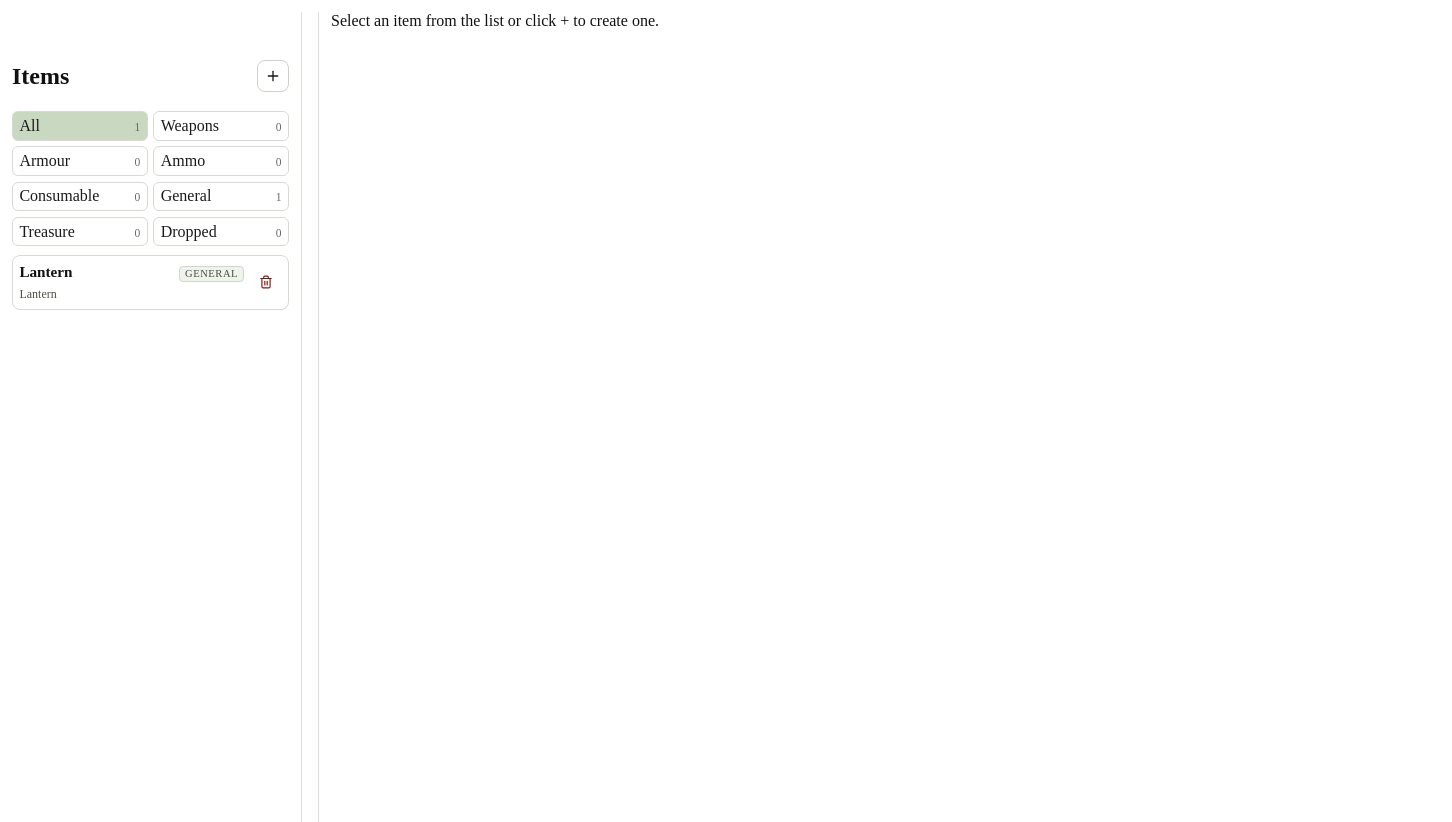
Test: Items tab character grants › writes character before a non-gold overflow document, retaining the authored source
Step 1. Click the button "Lantern general Lantern" → (46, 271), box [19,262,244,302]
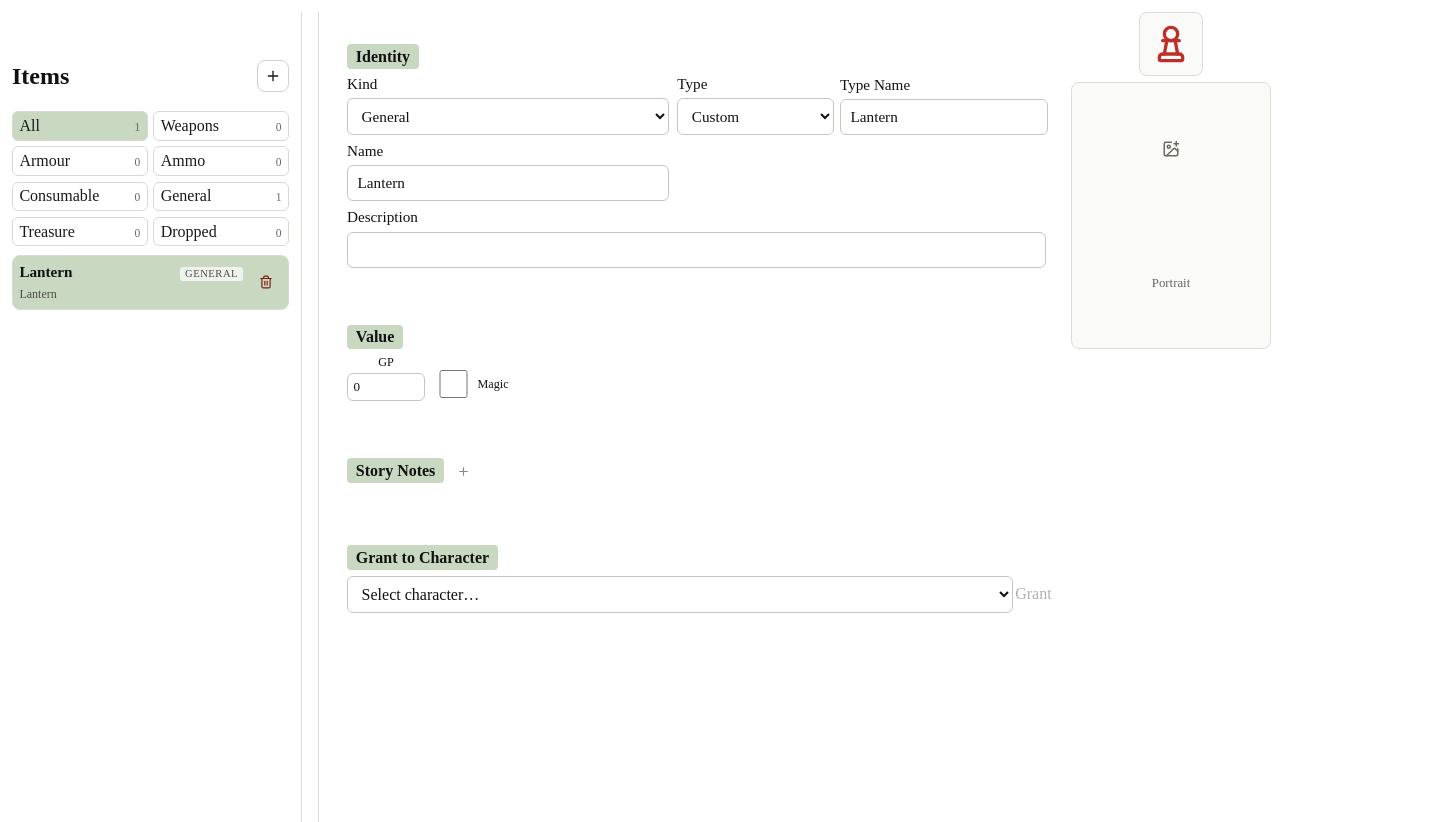
Step 2. Select "Ada (Fighter 1)" in the 3rd dropdown → (680, 594), box [347,576,1013,613]
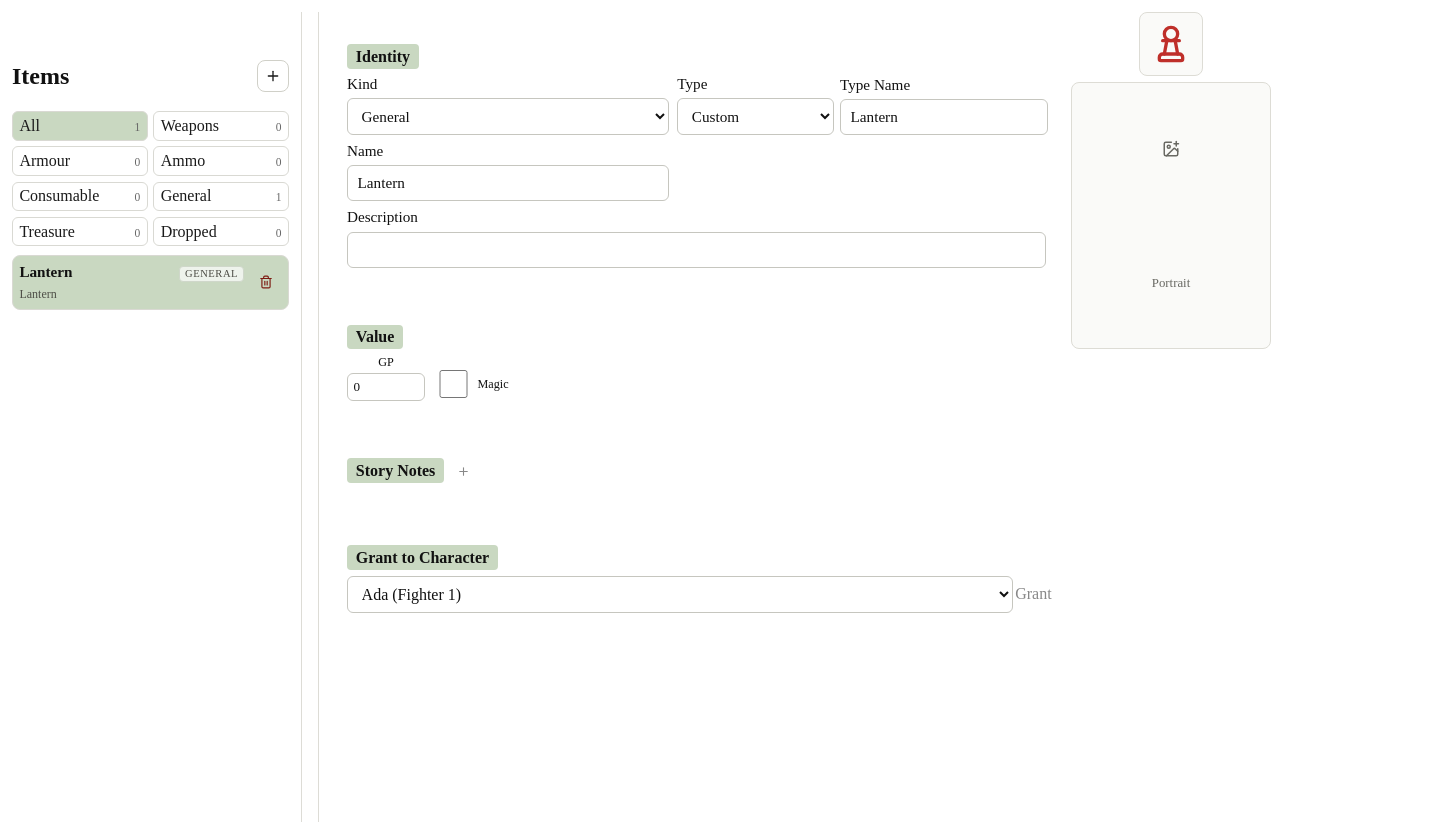
Step 3. Click the button with aria-label "Grant item to selected character" → (1033, 594), box [1021,582,1046,607]
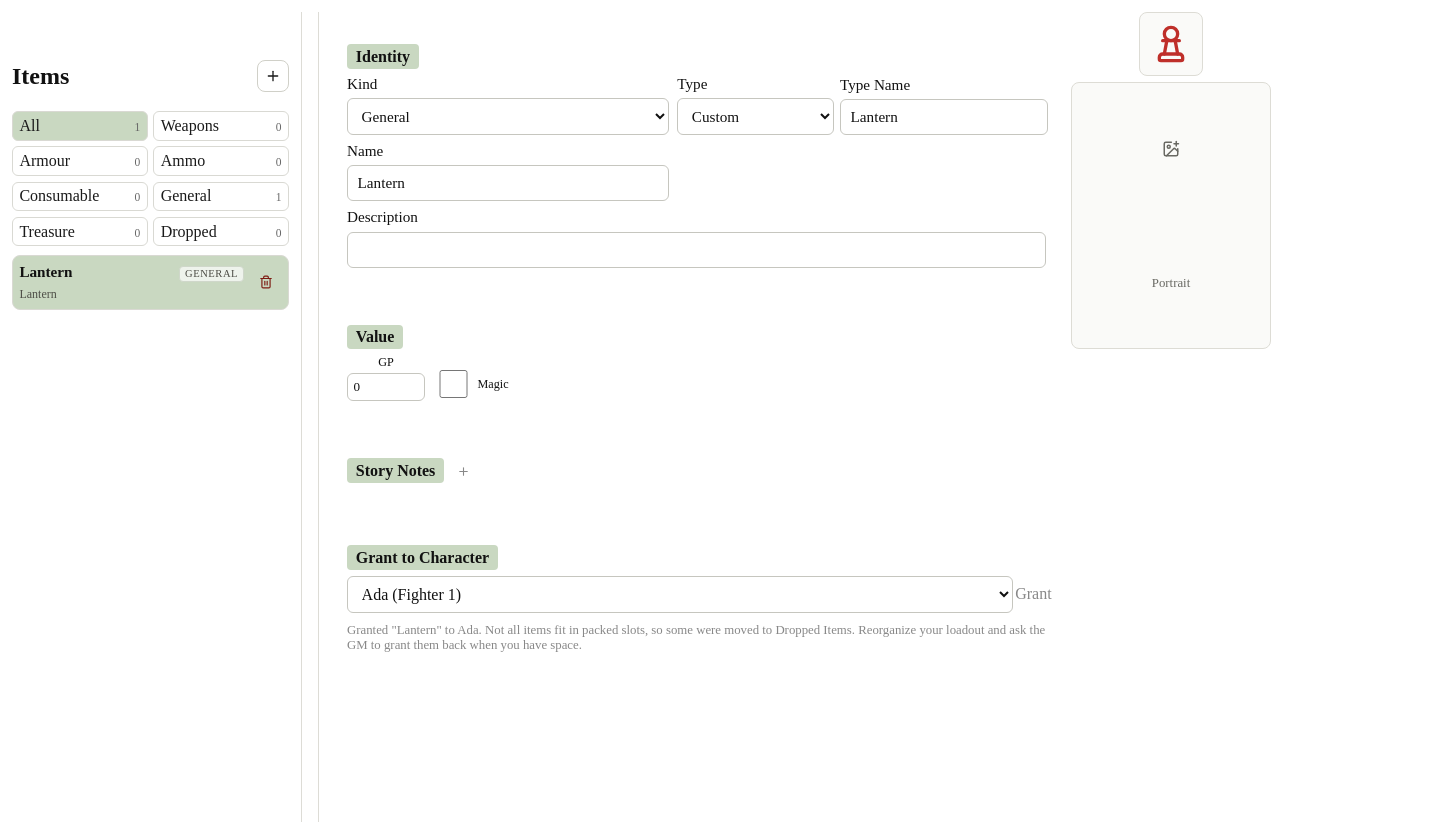
Now the text "Not all items fit" is shown, box [347,622,1045,652]
